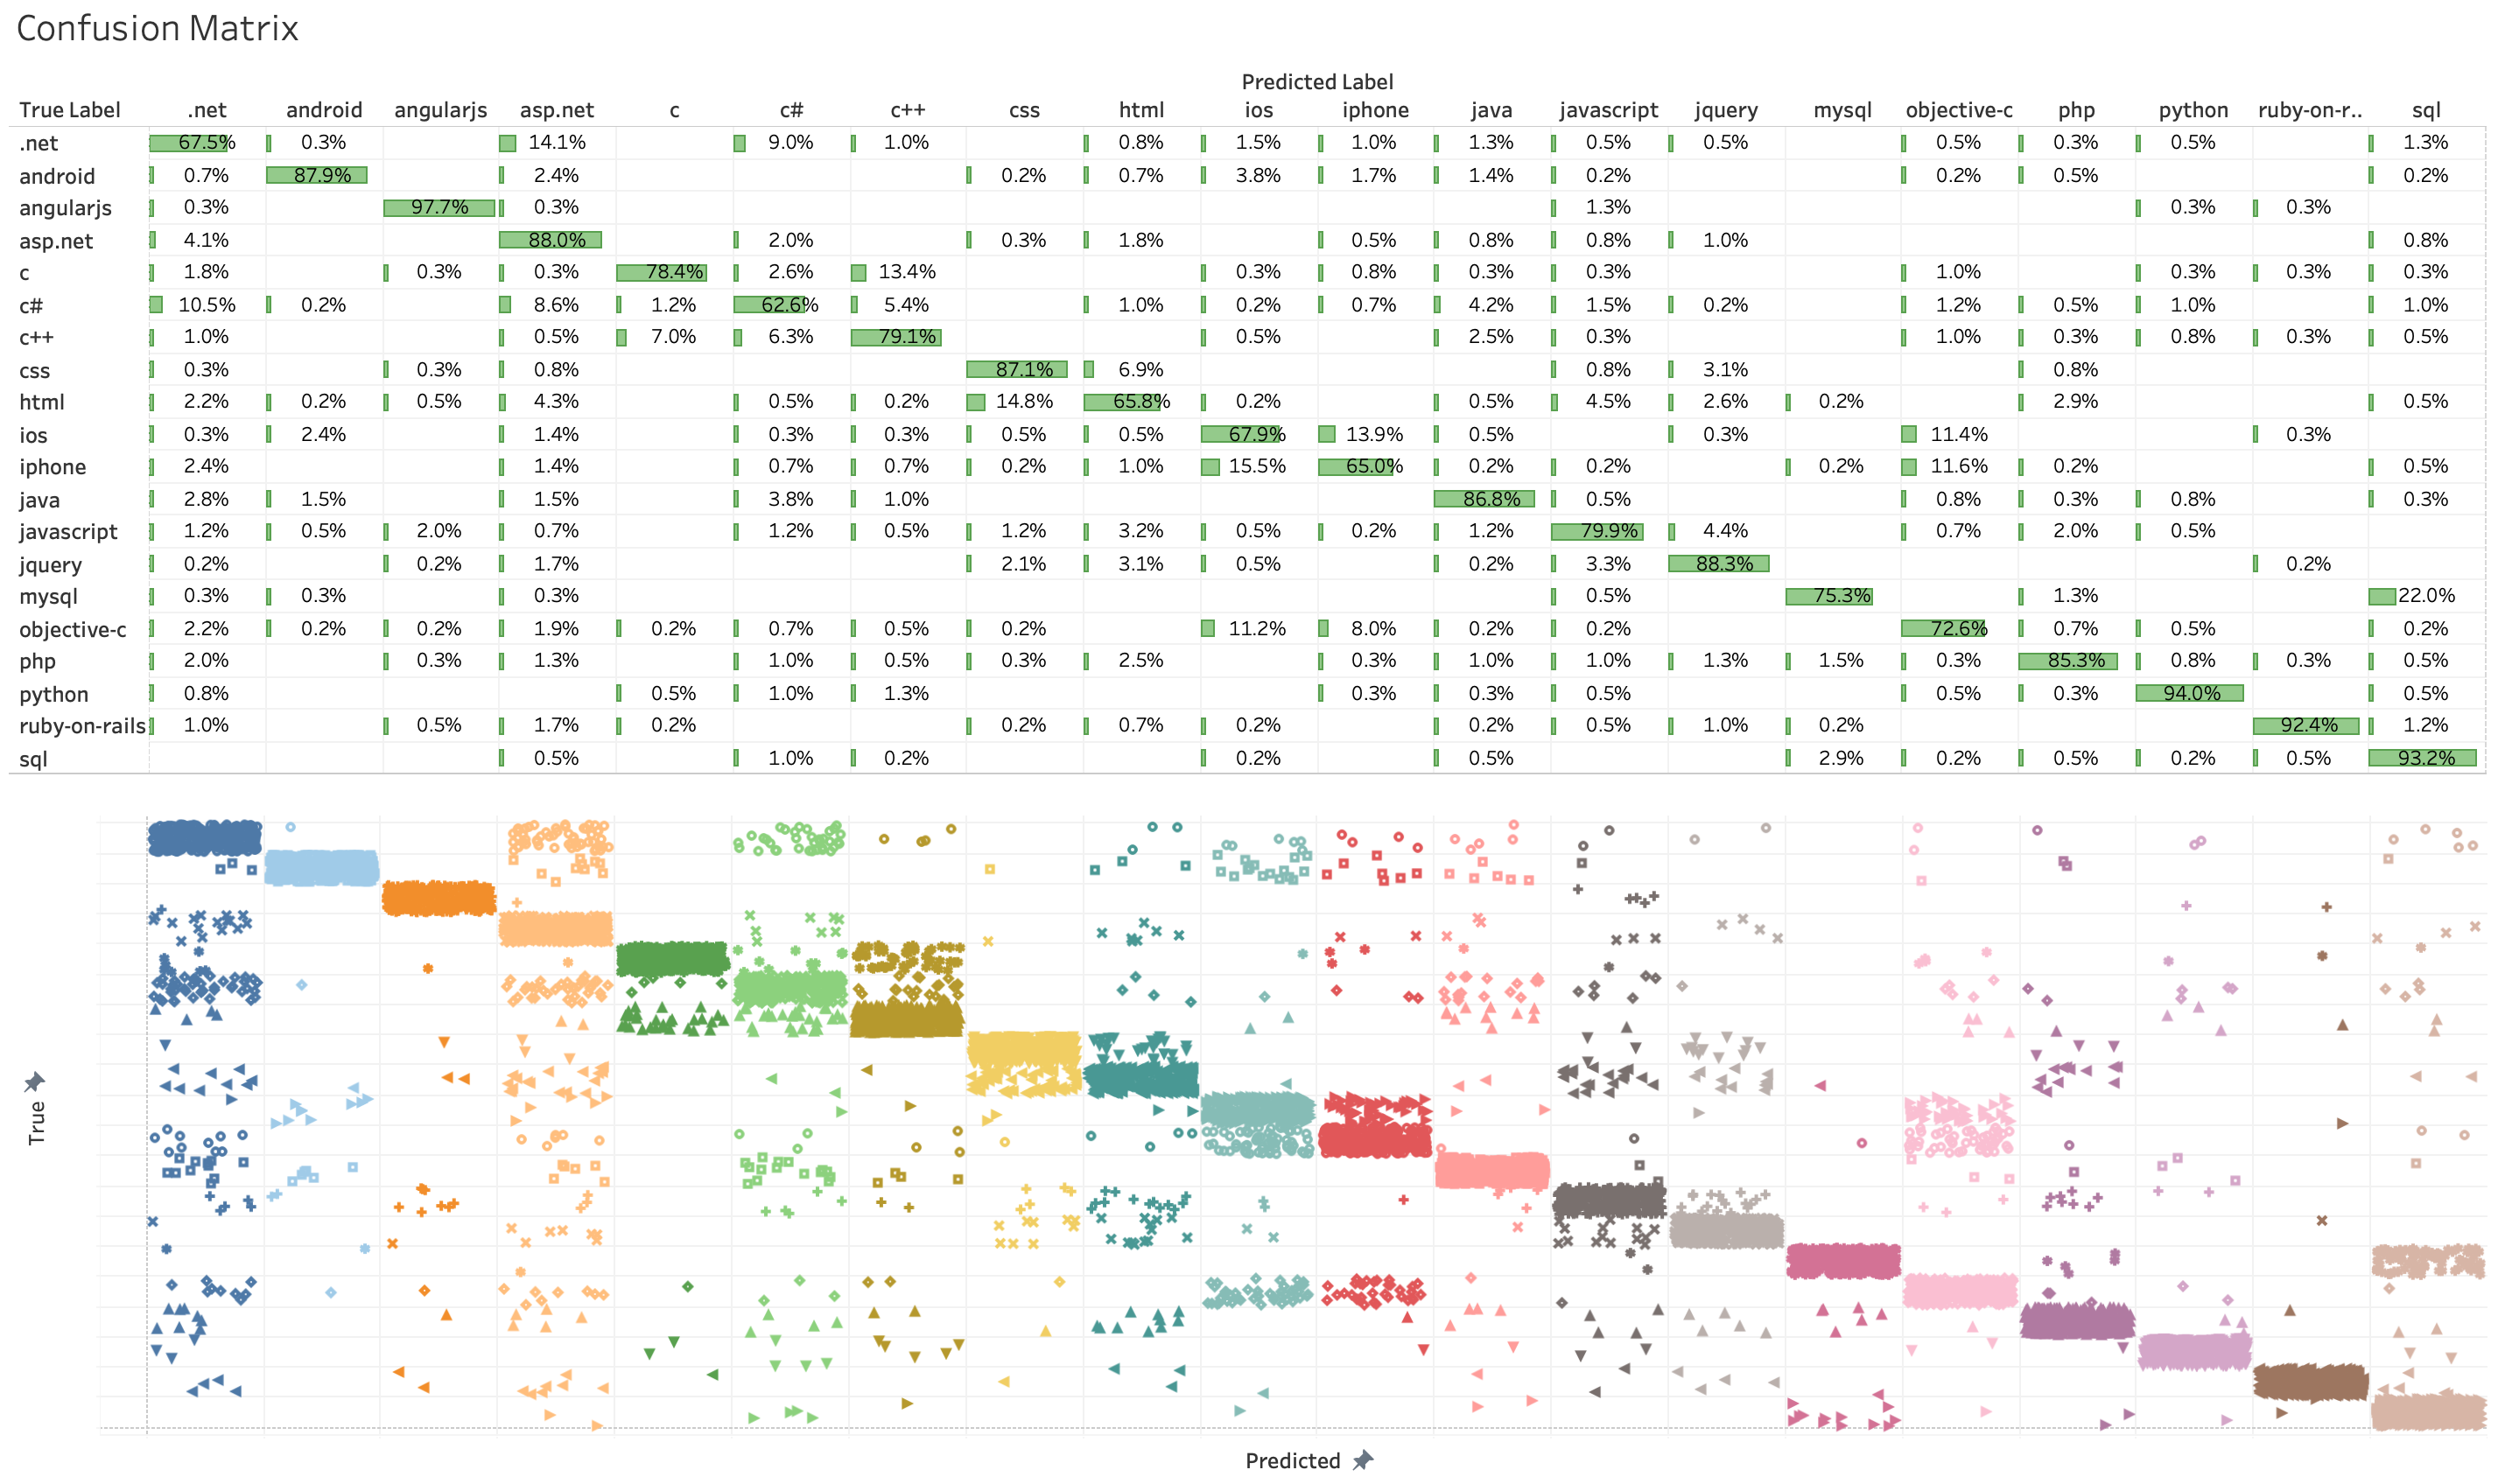

The page's visual inventory and layout, read from the dashboard file:
{"tool":"tableau","page":{"name":"Dashboard","canvas":[1000,1000],"units":"permille","ordinal":0},"visuals":[{"type":"worksheet","title":"Confusion Matrix","mark":"Bar","rows":["True Label"],"cols":["Predicted Label"],"box":[5.6,9.2,988.9,521.6]},{"type":"worksheet","title":"View Posts","mark":"Automatic","rows":["True_XY"],"cols":["Predicted_XY"],"box":[5.6,530.8,988.9,460]}]}

Visuals, with their boxes on the dashboard's canvas, which has no fixed pixel size, in thousandths of its width and height (x1, y1, x2, y2). These are canvas units, not pixel positions in the 2498x1484 screenshot, which may show the page scaled, cropped or inside an application window:
"Confusion Matrix" worksheet (Bar marks): <region>6, 9, 994, 531</region>
"View Posts" worksheet: <region>6, 531, 994, 991</region>
